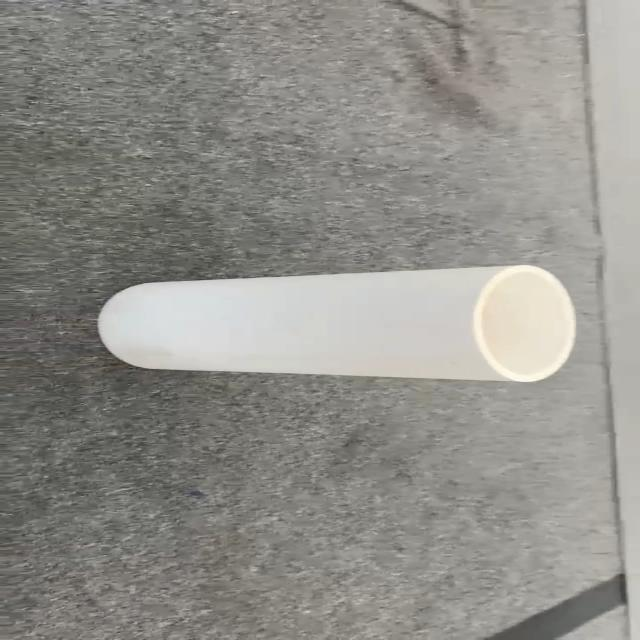coral: (96, 263, 577, 383)
